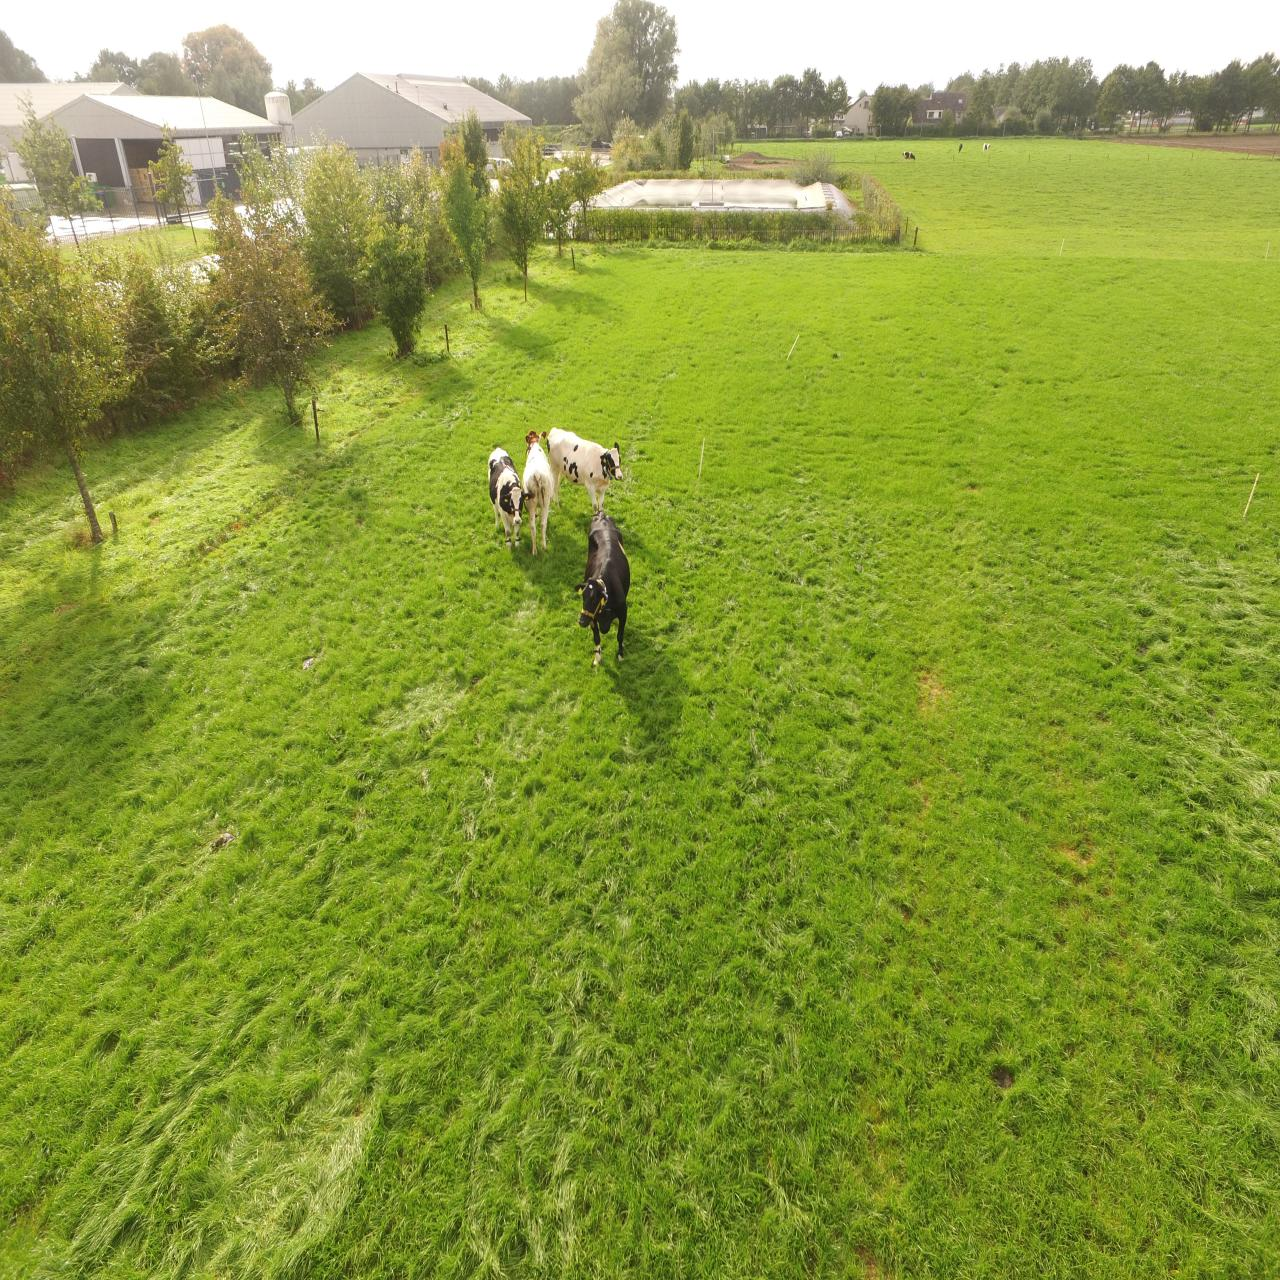cow: (576, 508, 629, 668), (546, 424, 622, 520), (485, 445, 524, 552), (522, 428, 549, 559)
